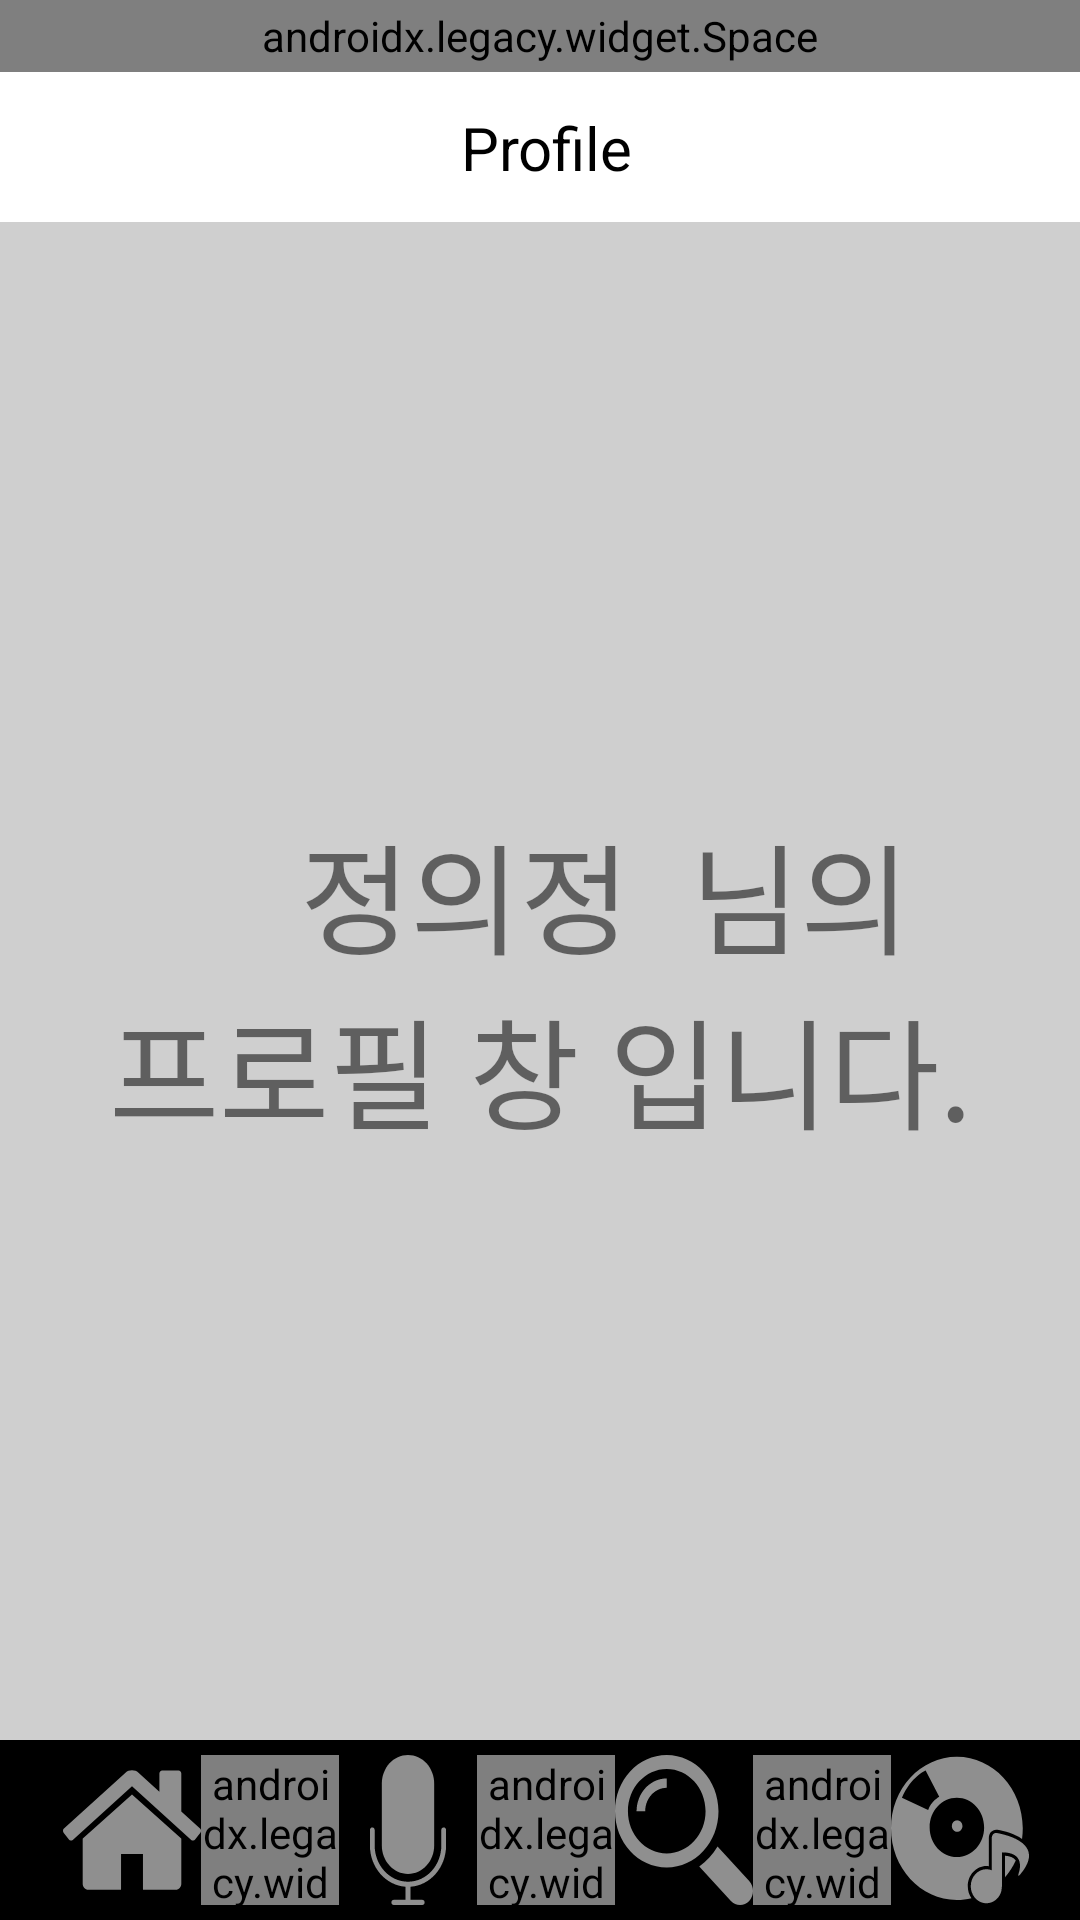

Locate icon controls on the screen. Image size 1080 x 1920, boxes as bbox(x1, y1, x2, y2).
home: bbox(82, 1795, 182, 1890)
magnifier: bbox(615, 1755, 753, 1905)
microphone: bbox(370, 1755, 446, 1905)
music album: bbox(891, 1756, 1029, 1904)
